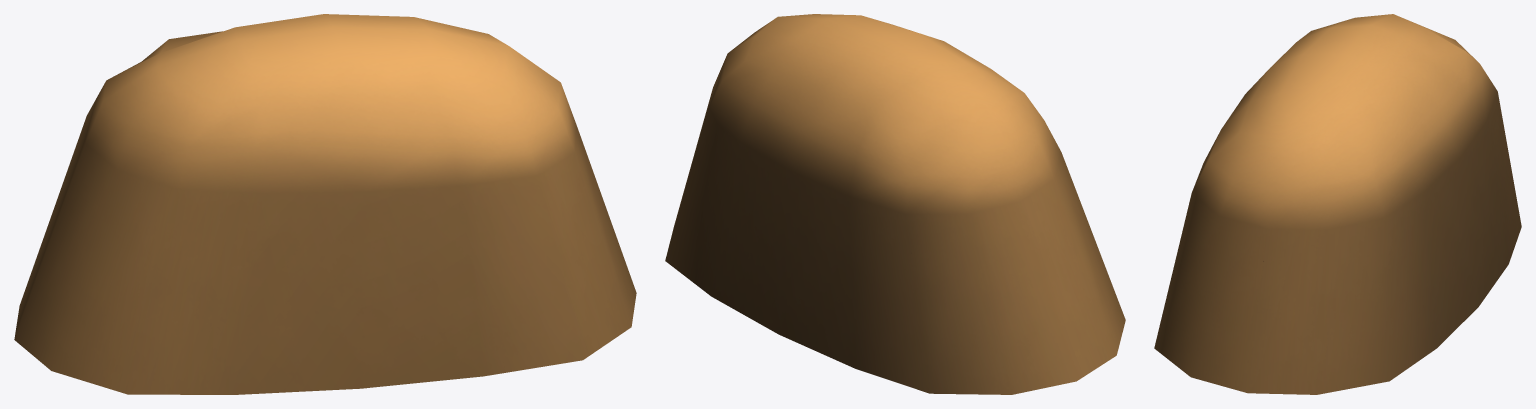
The model's file is BLoc.fbx.
3 views of the same model, side by side, from view 1: azimuth 30°, elevation 25°; view 2: azimuth 150°, elevation 25°; view 3: azimuth 270°, elevation 25° (orthographic). The views are drawn at different scales.
Visible parts, largest first — view 1: Bloc; view 2: Bloc; view 3: Bloc.
Part boxes in pixels (x1,y1,x2,y2): Bloc: (14,14,636,394); Bloc: (665,14,1125,394); Bloc: (1154,14,1521,394).
Size of the model in its own units: 4.47 by 2.31 by 3.23.
